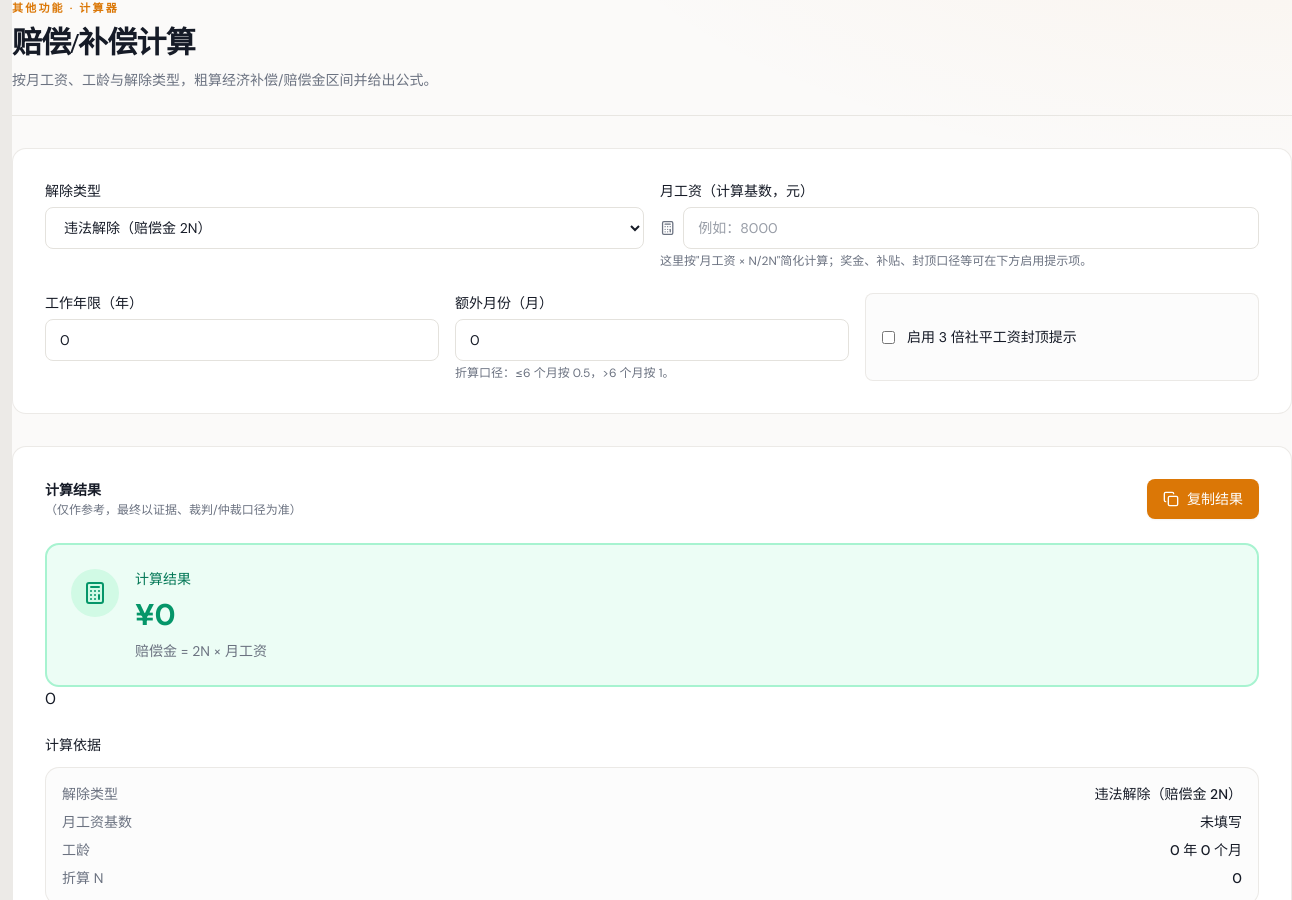
Test case: CompensationCalculator › applies 3x cap when wage exceeds local average
Type "50000" into the field with placeholder "例如：8000" at (971, 228), box 683,207 -> 1259,249
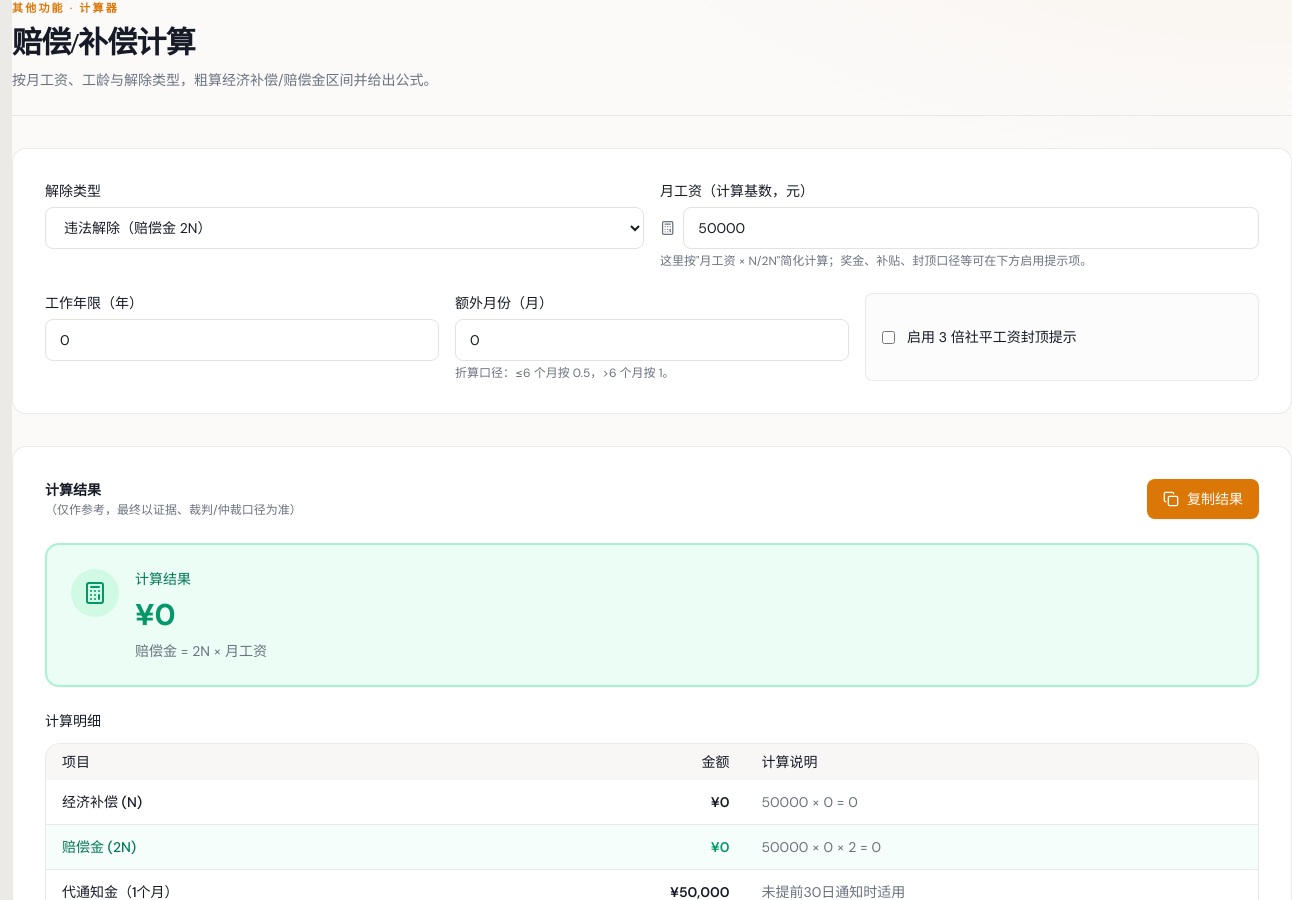
Replace the text in the field below "工作年限（年）" with "5" at (242, 340), box 45,319 -> 439,361
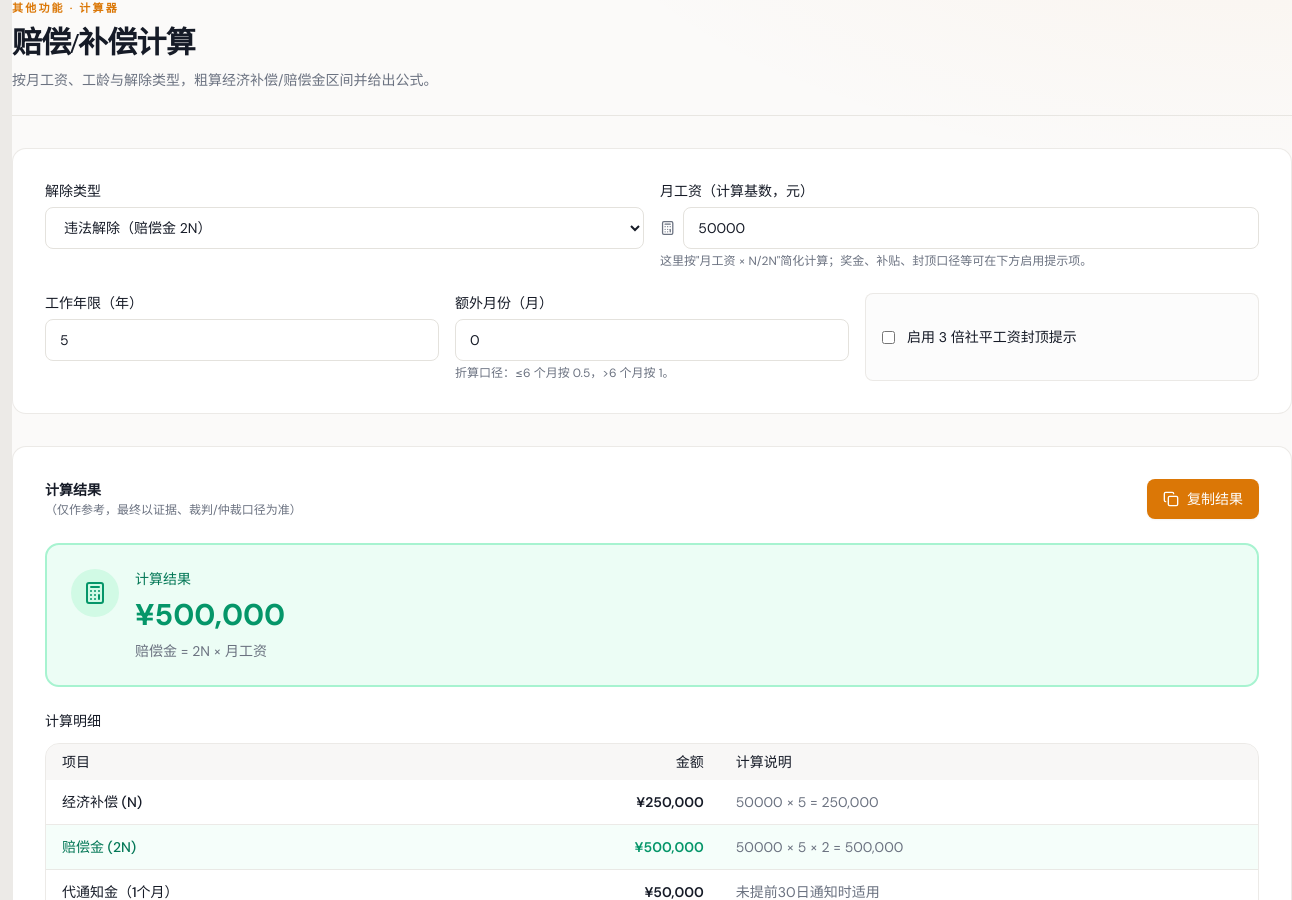
Click the checkbox labelled "启用 3 倍社平工资封顶提示" at (888, 337), box 882,331 -> 895,344
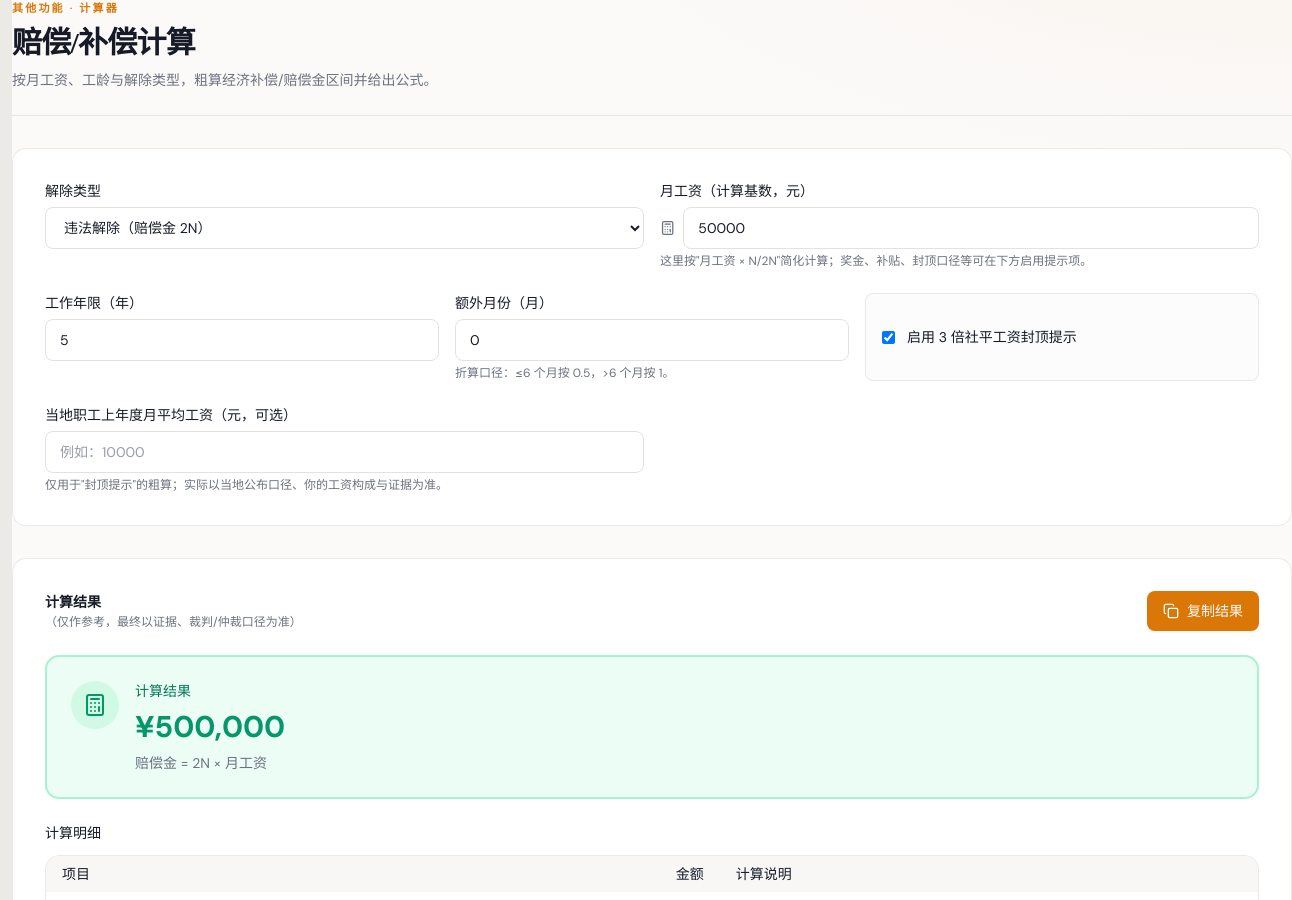
Type "10000" into the field with placeholder "例如：10000" at (344, 452), box 45,431 -> 644,473
(page scrolled)
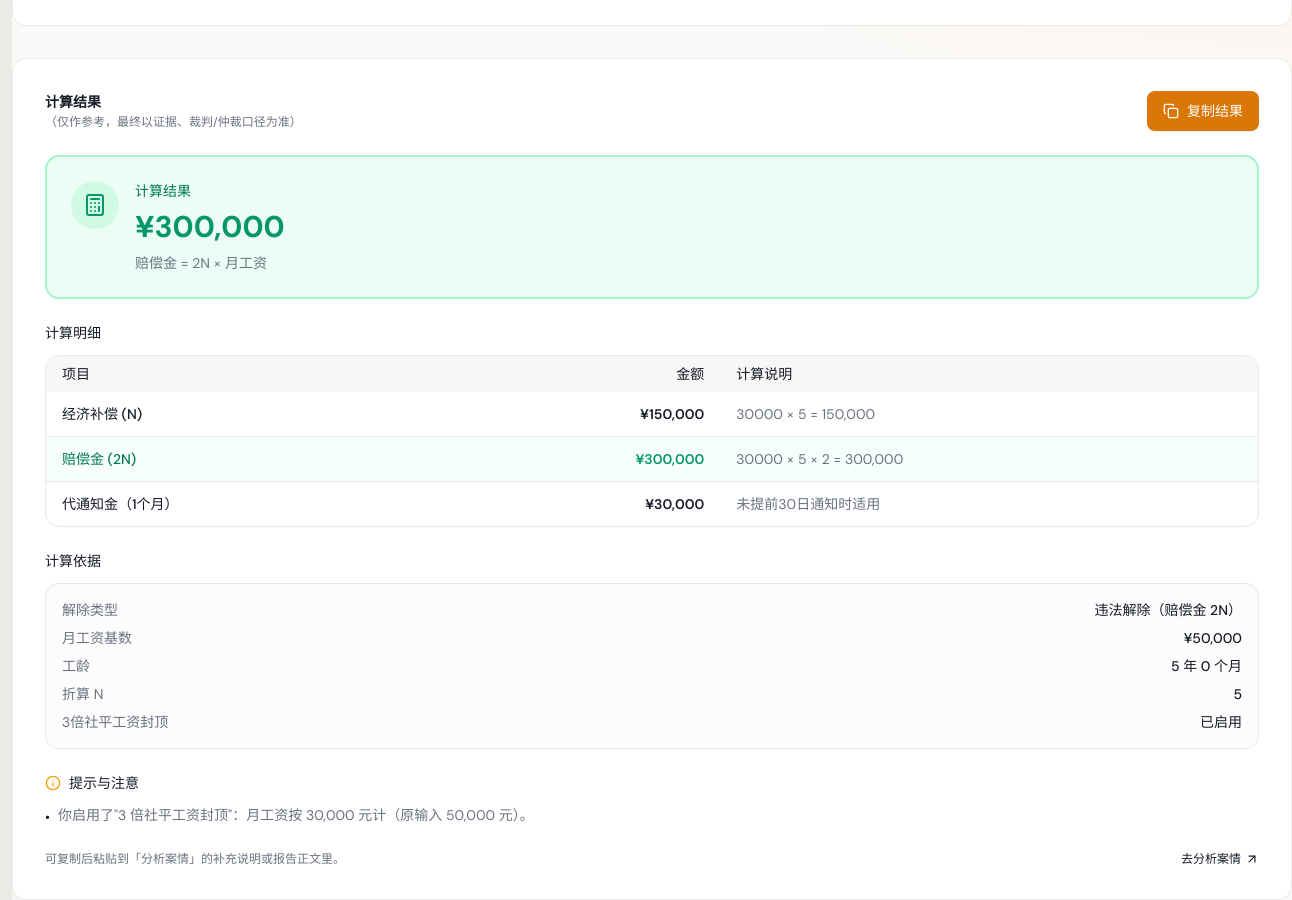
Expected: the text "你启用了\"3 倍社平工资封顶\"：月工资按 30,000 元计（原输入 50,000 元）。" is shown, 58,805 -> 534,825
